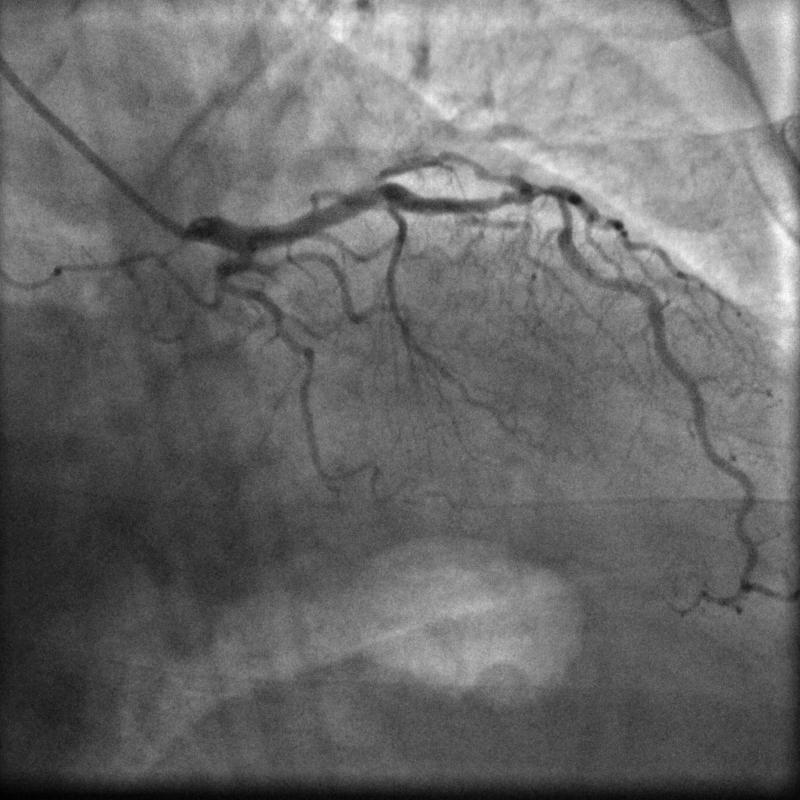Stenosis: (489, 185, 574, 230)
